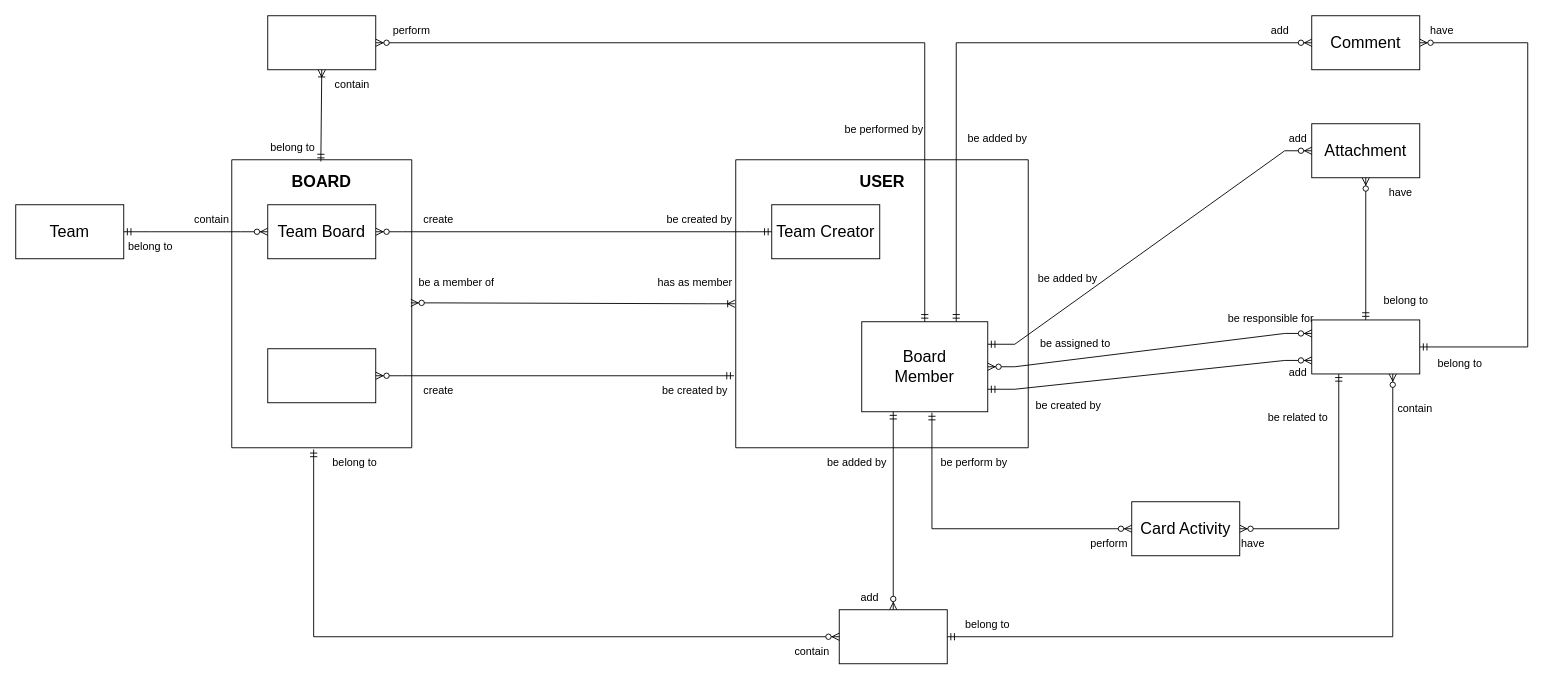
The diagram is 1552 pixels wide and 680 high, and some of its shapes have lost their labels. Each missing label, with the centre of its shape:
Board Activity: (x=321, y=42)
Card: (x=1365, y=346)
Card List: (x=892, y=636)
Personal Board: (x=321, y=375)
